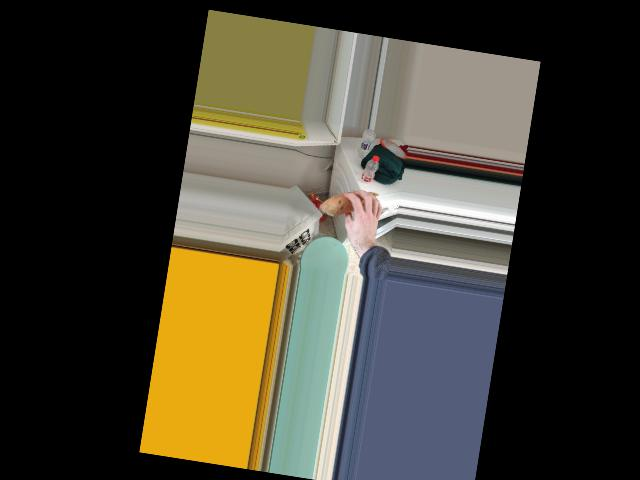sweet_potato: (324, 185, 380, 218)
